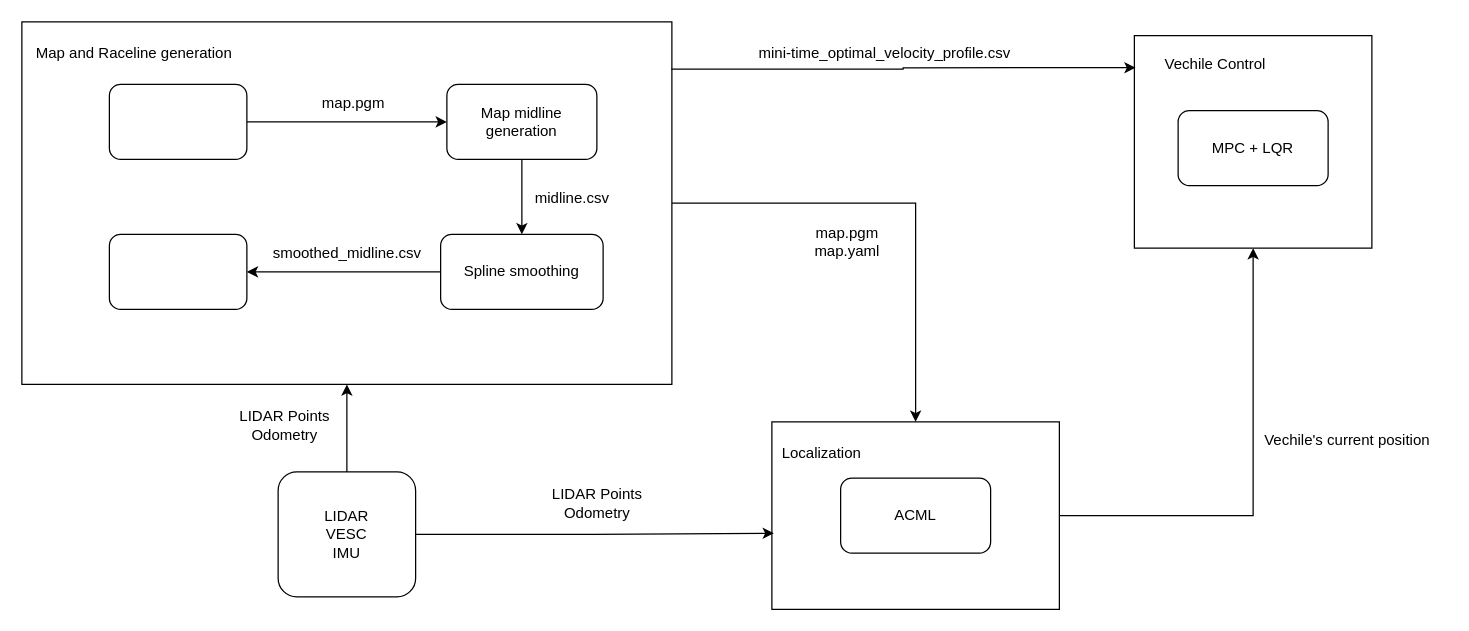
Image size: 1469x631. Some labels were removed from this diagram. Here are the shapes that lost their labels. From the top down, the centre of each, then its label:
At point (177, 121): "SLAM".
At point (177, 271): "Optimal racing line generation".
